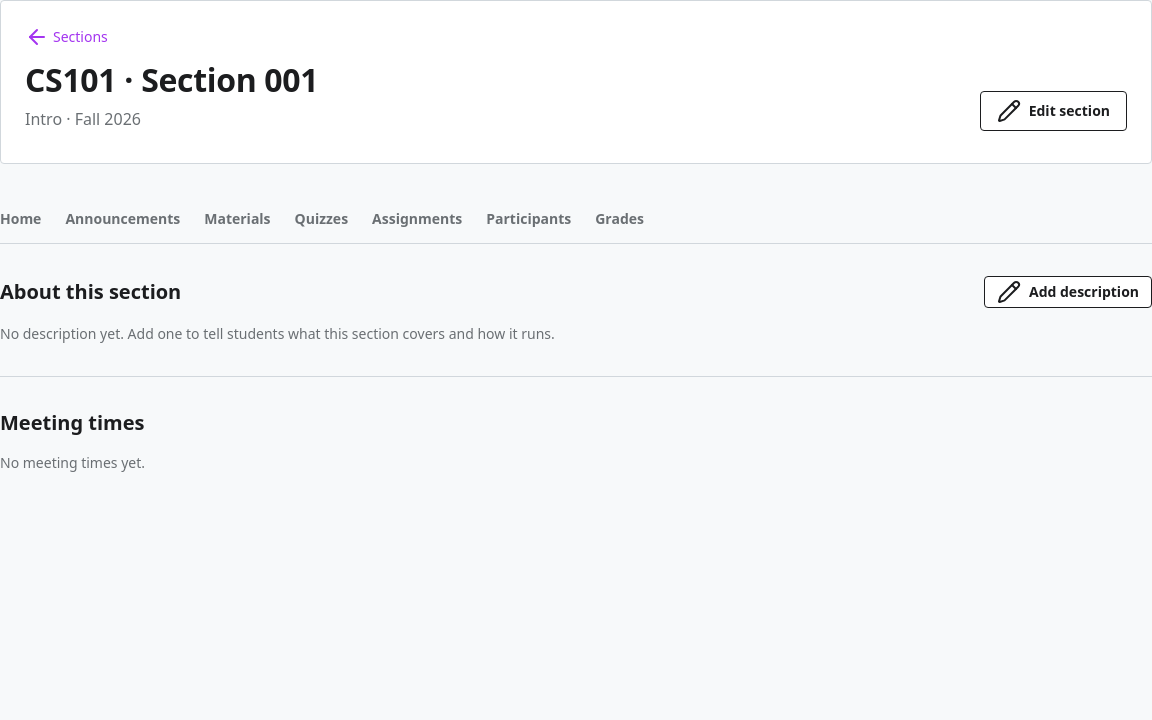
Edit section opens the dialog for managers only
Click the button "Edit section".
click(1053, 111)  # box [980,91,1127,131]
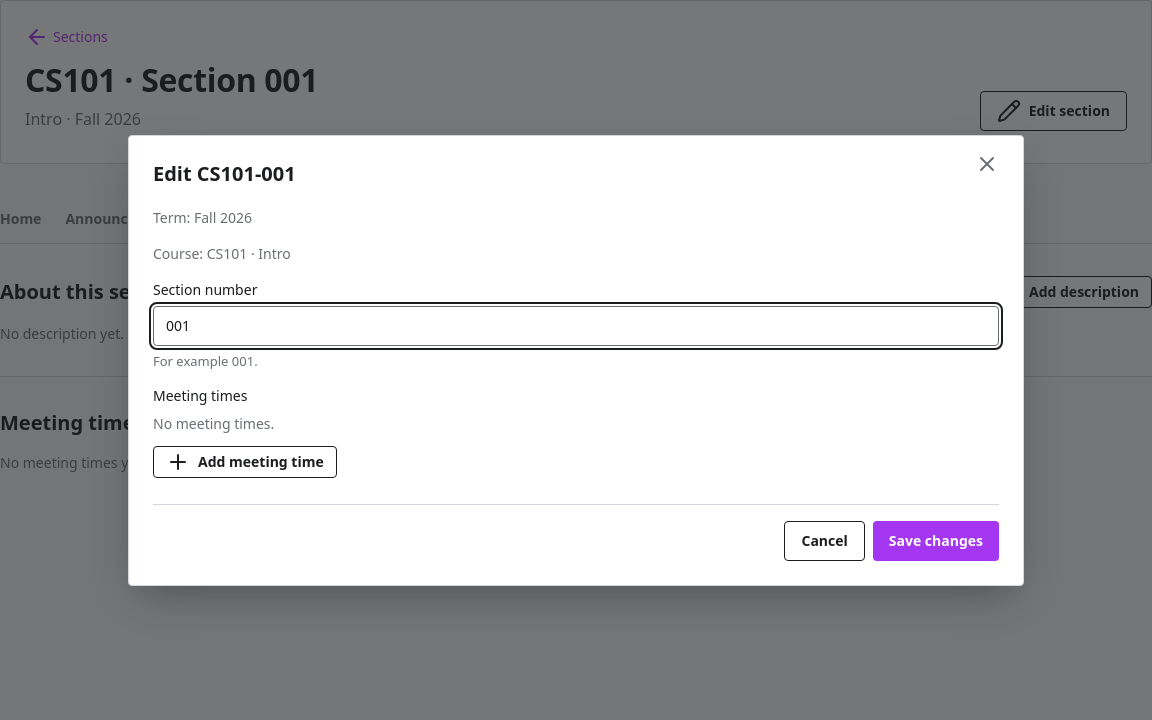
Now the dialog "Edit CS101-001" is shown, box [128,134,1024,586]
